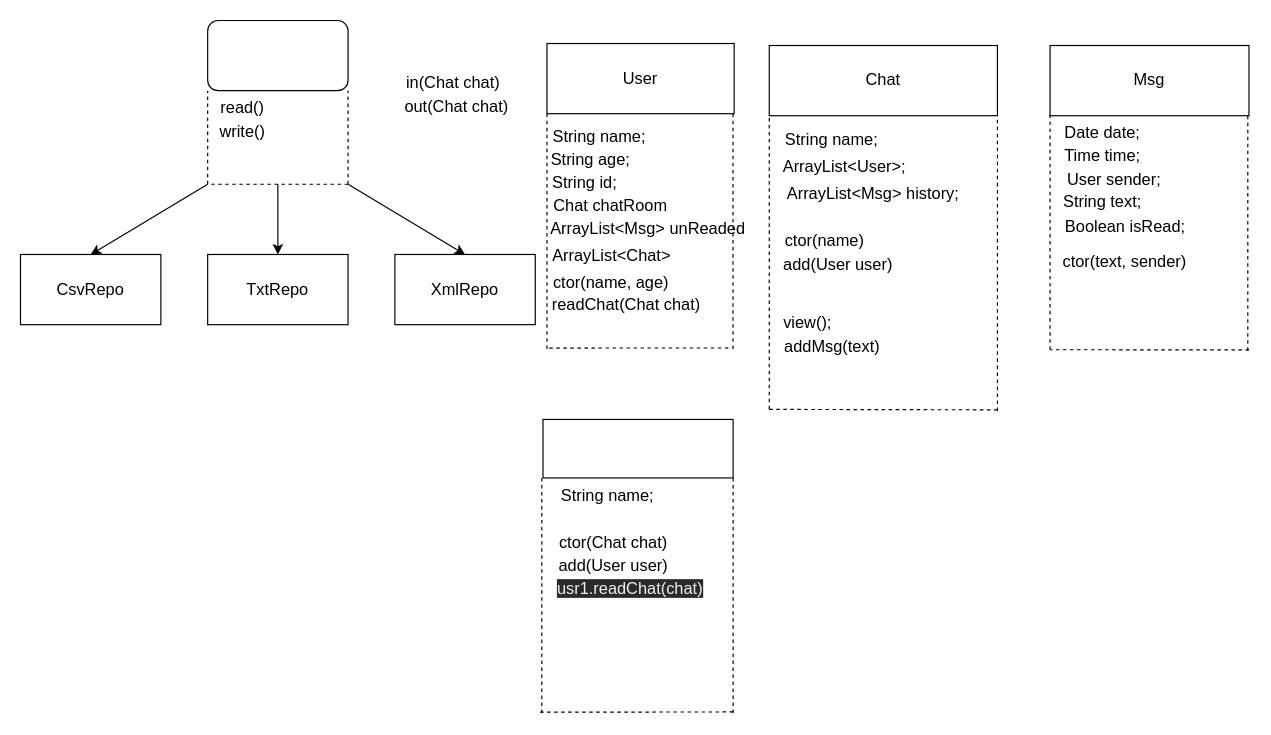
This 1271x735 diagram has some shape labels left out. The shapes that lost their labels are listed below. From the top down, each one's centre as x and y in pixels, then its label:
At (x=277, y=55): "Repo".
At (x=637, y=448): "App".
